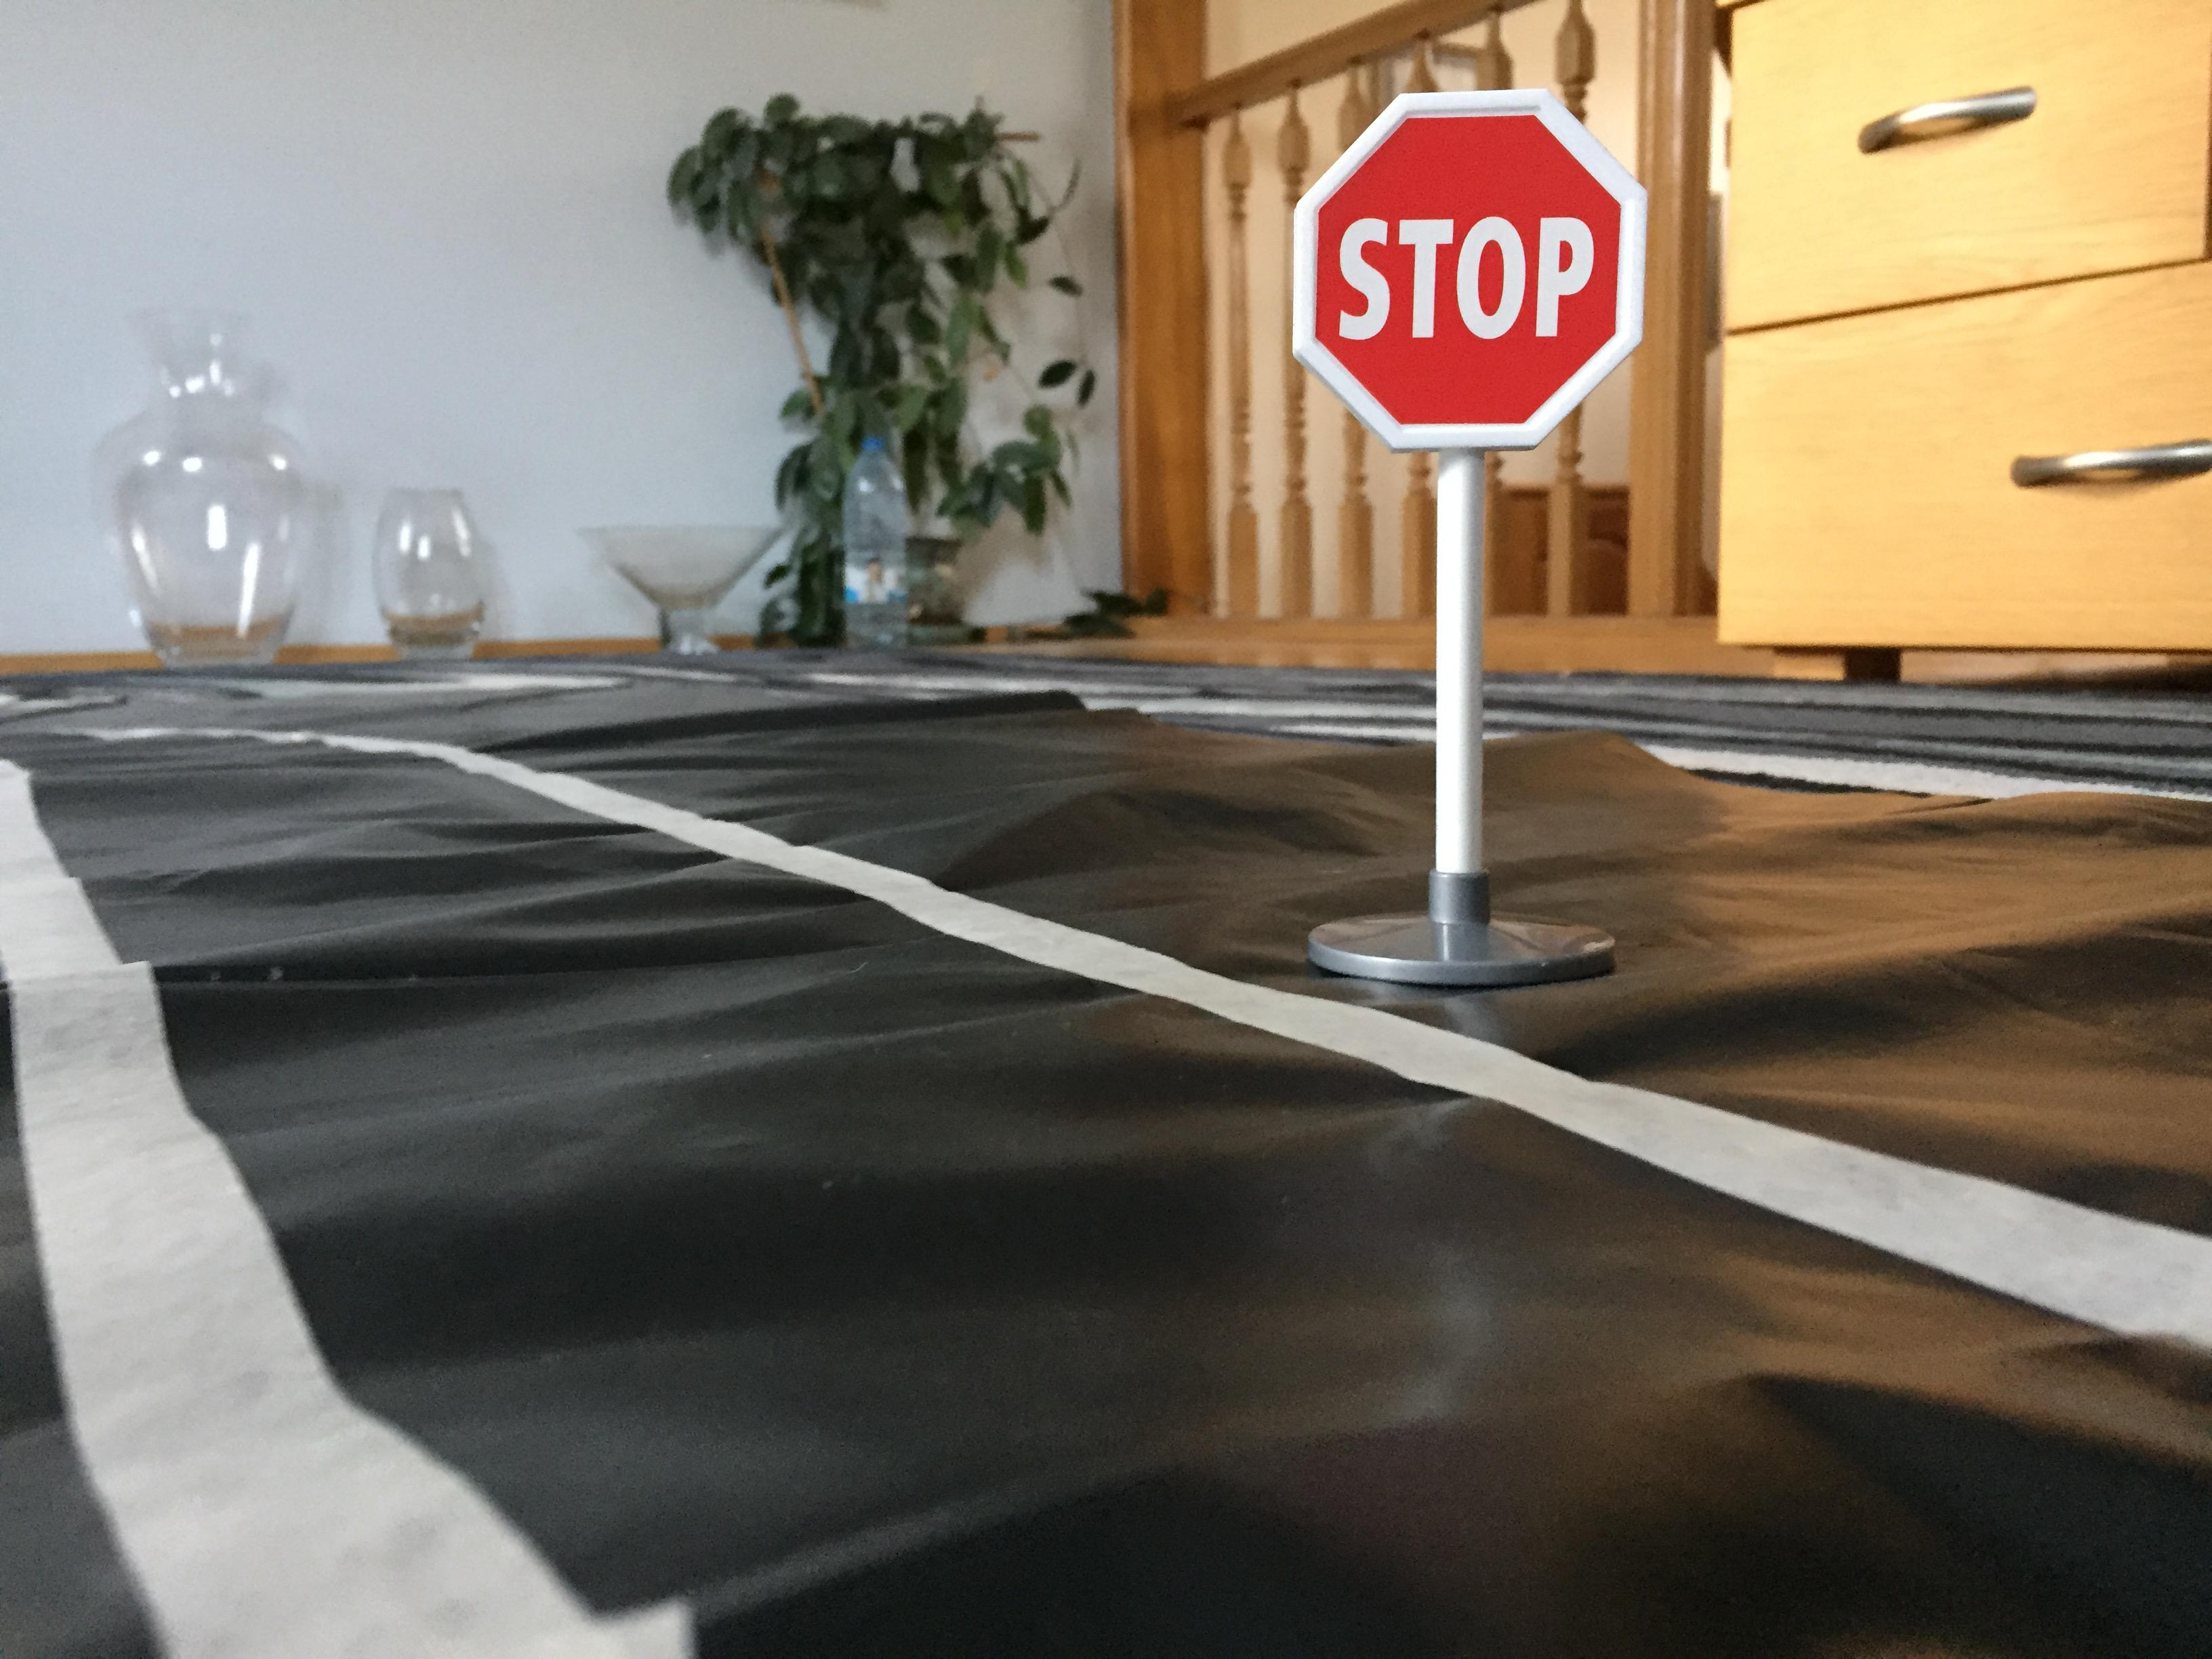stop: (1277, 77, 1649, 458)
